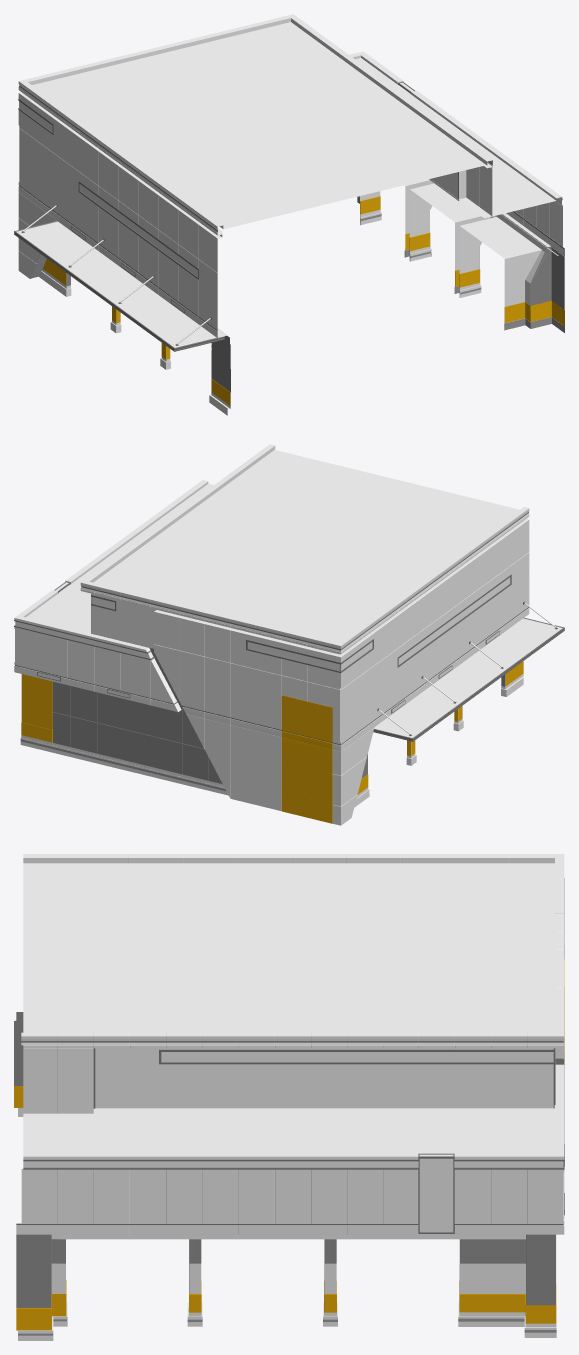
The picture shows the model from 3 angles, top to bottom: view 1: azimuth 30°, elevation 25°; view 2: azimuth 150°, elevation 25°; view 3: azimuth 270°, elevation 25°; orthographic projection. The views are drawn at different scales.
Visible parts, largest first — view 1: SM_H_Building_FutureTech_TransferStation_ExterWall_01; view 2: SM_H_Building_FutureTech_TransferStation_ExterWall_01; view 3: SM_H_Building_FutureTech_TransferStation_ExterWall_01.
Part boxes in pixels (<box>): SM_H_Building_FutureTech_TransferStation_ExterWall_01: <box>14,14,564,415</box>; SM_H_Building_FutureTech_TransferStation_ExterWall_01: <box>14,444,564,825</box>; SM_H_Building_FutureTech_TransferStation_ExterWall_01: <box>14,854,564,1340</box>.
Size of the model in its own units: 2064 by 2269 by 1066.
